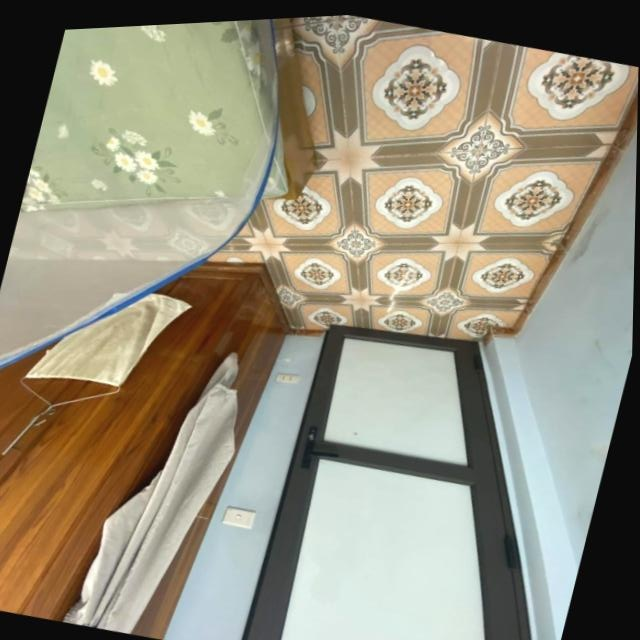outlet: (276, 368, 301, 385)
